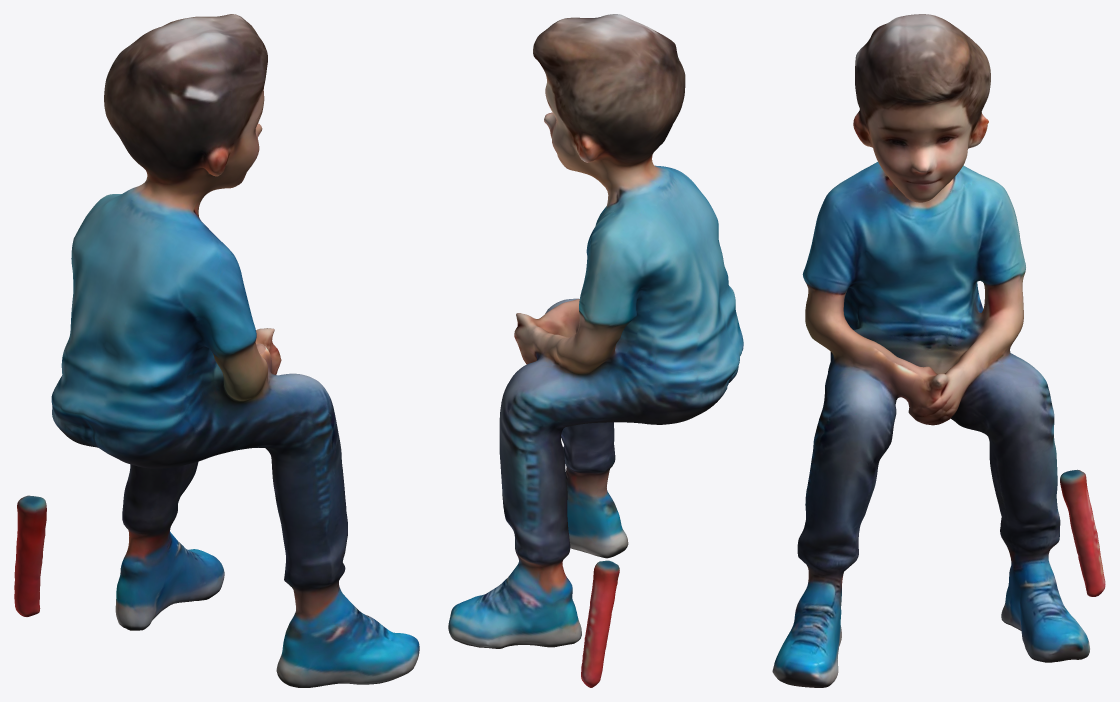
The model's file is boy.glb.
3 views of the same model, side by side, from view 1: azimuth 30°, elevation 25°; view 2: azimuth 150°, elevation 25°; view 3: azimuth 270°, elevation 25° (orthographic). The views are drawn at different scales.
Visible parts, largest first — view 1: Object_4; view 2: Object_4; view 3: Object_4.
Boxes of the visible parts, x1=… form: Object_4: x1=14, y1=14, x2=419, y2=687; Object_4: x1=448, y1=14, x2=743, y2=687; Object_4: x1=772, y1=14, x2=1105, y2=687.
Size of the model in its own units: 0.467 by 0.9633 by 0.4812.
1 material, 1 textured.
